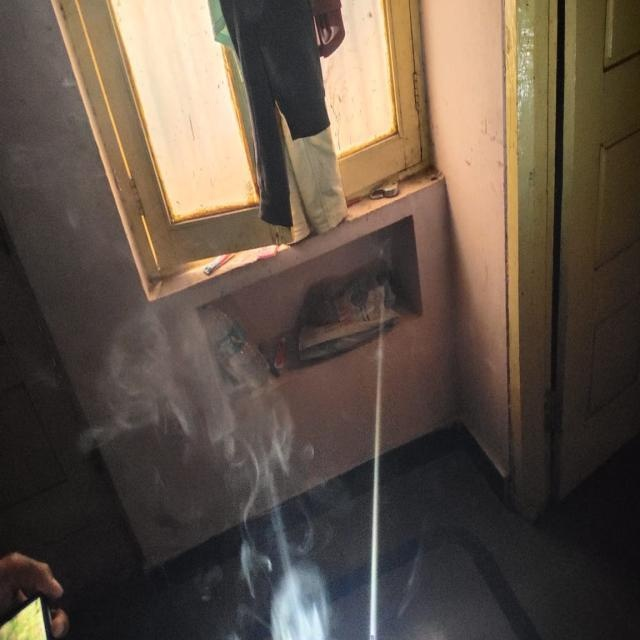smoke: (107, 294, 331, 640)
